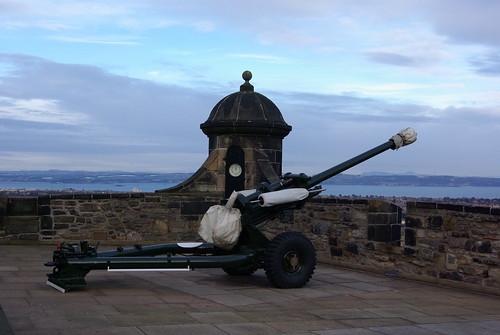sky: (6, 1, 500, 165)
weapon: (82, 129, 423, 289)
